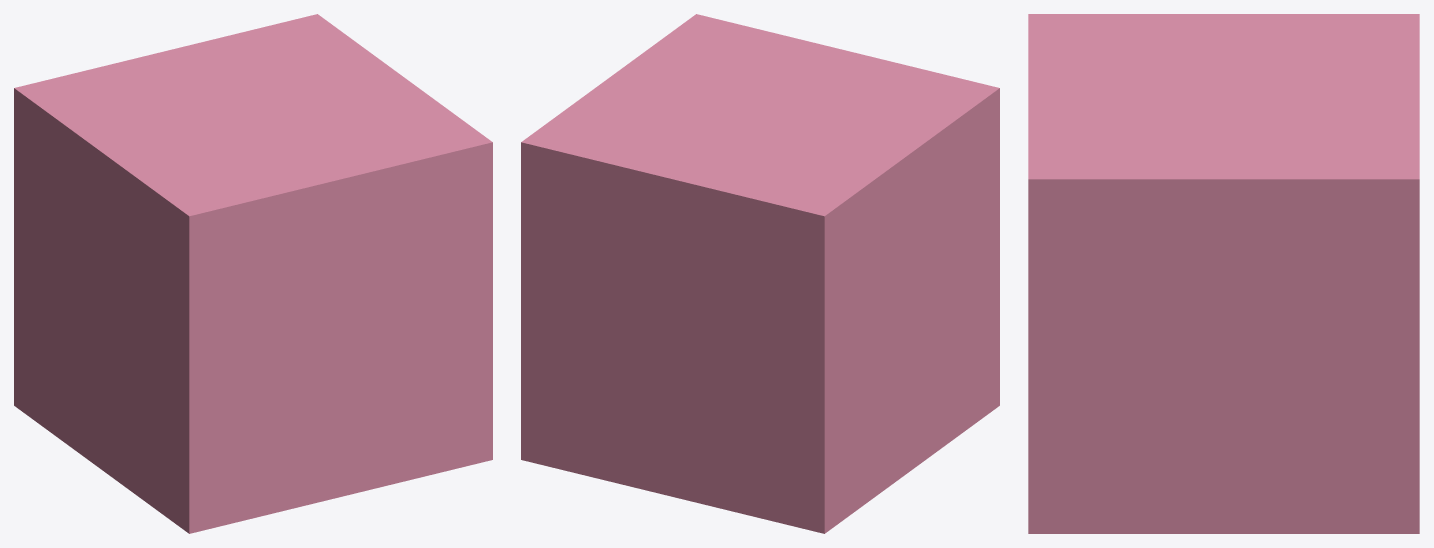
File: PileOfGoop_unfinished.FBX
The picture shows the model from 3 angles, left to right: view 1: azimuth 30°, elevation 25°; view 2: azimuth 150°, elevation 25°; view 3: azimuth 270°, elevation 25°; orthographic projection. The views are drawn at different scales.
Visible parts, largest first — view 1: Box001; view 2: Box001; view 3: Box001.
Part boxes in pixels (bbox=[...]): Box001: bbox=[14, 14, 492, 533]; Box001: bbox=[521, 14, 999, 533]; Box001: bbox=[1028, 14, 1419, 533].
Bounding box in the file's own units: 300 × 300 × 300.
